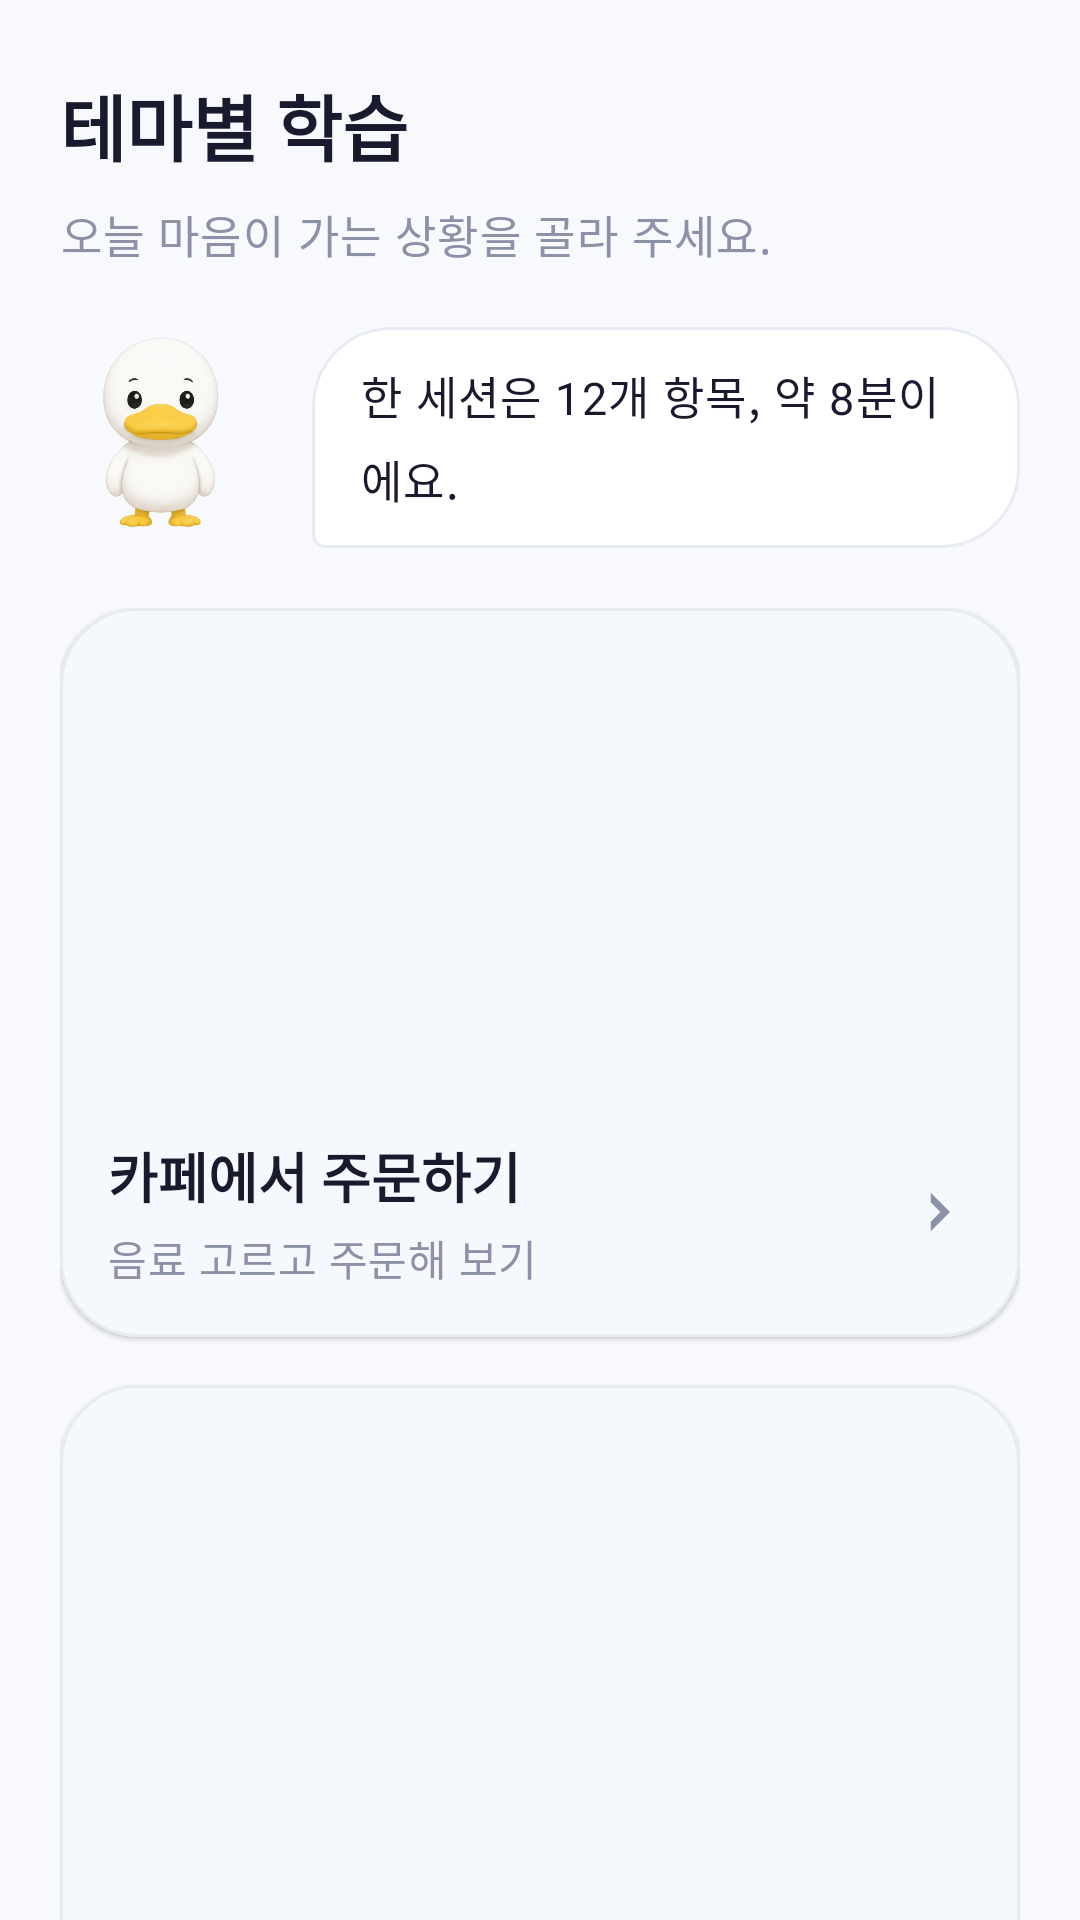

Icon bounding boxes for this 1080×1920 phone screenshot, format (x1,y1,x2,y2):
열기: (930,1193,950,1231)
